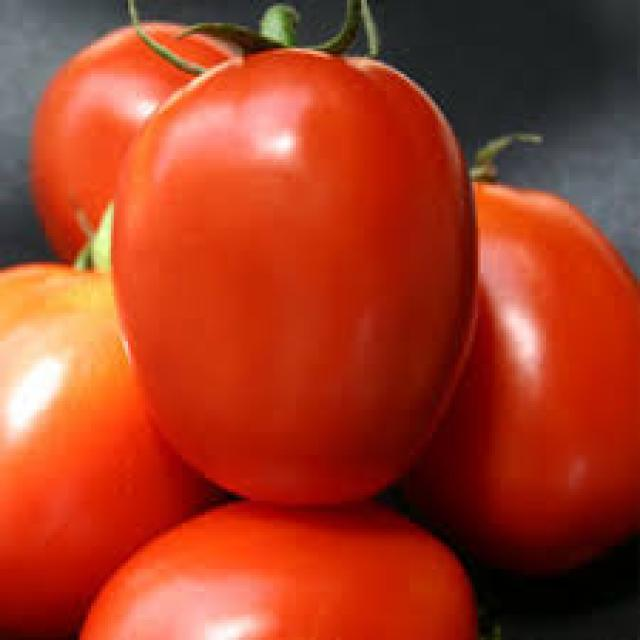Fresh_tomato: (118, 51, 462, 497)
